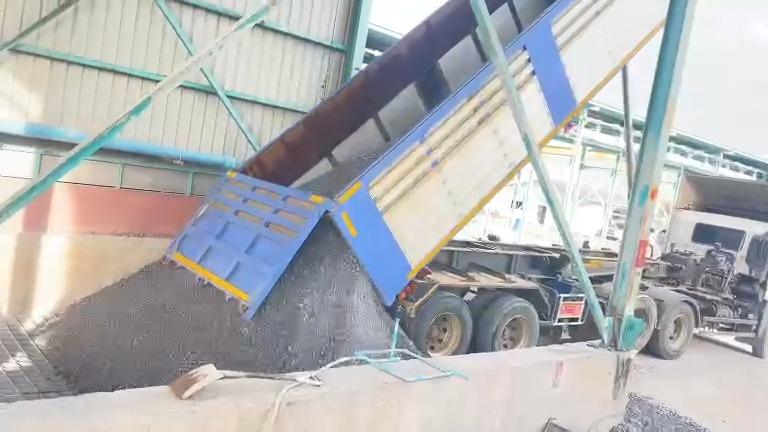gravel: (38, 220, 392, 392), (300, 140, 396, 196), (611, 393, 709, 431), (400, 332, 412, 348)
